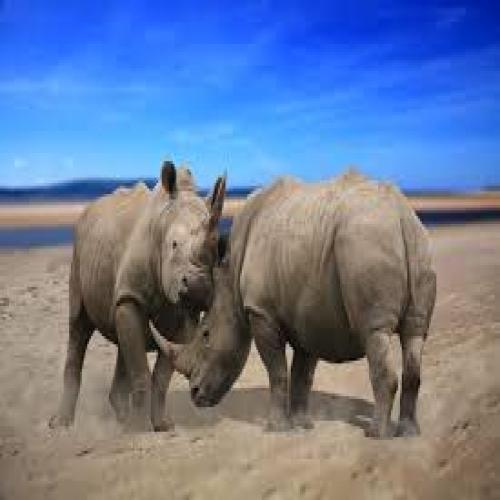rhino-endangered: (150, 174, 434, 432), (59, 174, 225, 428)
